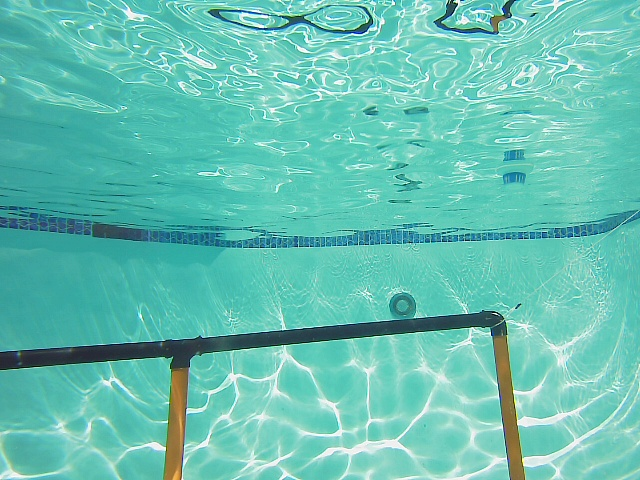Gate: (489, 331, 528, 480), (158, 363, 191, 480)
